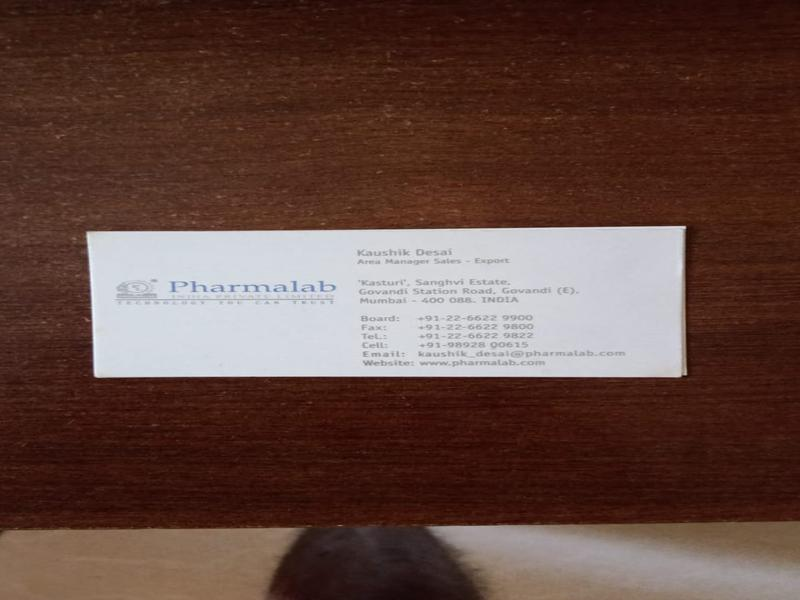card: (81, 222, 698, 382)
